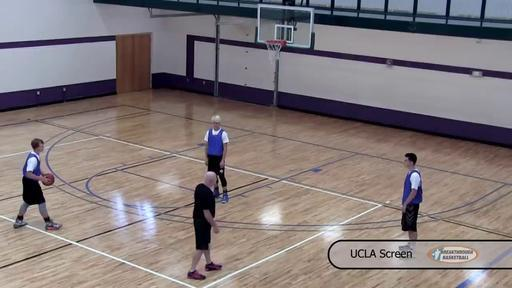ball: (42, 173, 55, 186)
human: (14, 138, 62, 232), (187, 171, 222, 280), (398, 152, 422, 252), (204, 115, 230, 204)
rim: (265, 40, 284, 60)
